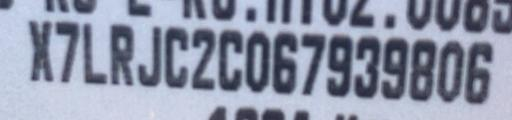letter: (462, 39, 494, 104), (406, 36, 438, 100), (106, 23, 138, 86), (434, 38, 464, 104), (161, 25, 191, 90), (270, 31, 300, 95), (380, 35, 410, 99), (188, 26, 218, 89), (26, 18, 56, 80), (324, 32, 352, 97), (352, 33, 380, 98), (136, 23, 164, 87), (216, 27, 244, 91), (81, 21, 109, 84), (300, 30, 326, 96), (54, 20, 80, 84), (244, 29, 270, 93)
